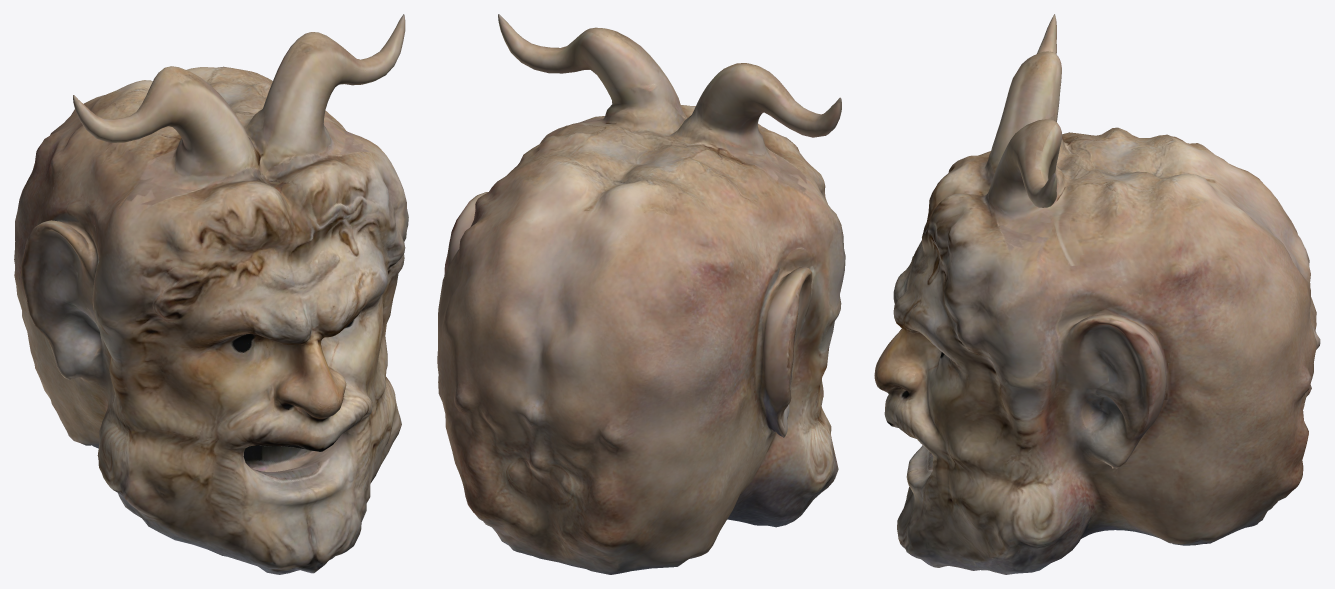
Rendered from Pan_Mask_0116080801_texture.glb.
The picture shows the model from 3 angles, left to right: view 1: azimuth 30°, elevation 25°; view 2: azimuth 150°, elevation 25°; view 3: azimuth 270°, elevation 25°; orthographic projection. The views are drawn at different scales.
Bounding box in the file's own units: 1.46 × 1.99 × 1.71.
1 material, 1 textured.
